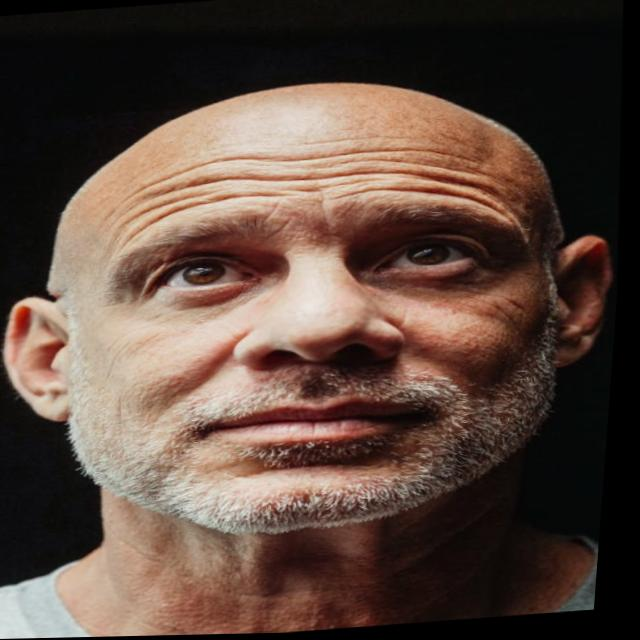wrinkle: (153, 173, 511, 202), (123, 195, 297, 249), (122, 157, 284, 205), (334, 189, 510, 218), (267, 149, 483, 165), (358, 161, 488, 179), (133, 194, 217, 220), (482, 294, 531, 316), (111, 342, 136, 382), (490, 304, 523, 332), (117, 203, 144, 224), (308, 138, 382, 145), (265, 200, 283, 227), (271, 218, 294, 239), (326, 181, 382, 189), (468, 169, 496, 179), (285, 190, 323, 194), (166, 317, 183, 324), (495, 182, 509, 189), (113, 343, 121, 351), (325, 207, 329, 222), (141, 326, 156, 330), (126, 398, 127, 424), (156, 324, 166, 326), (124, 336, 129, 340), (324, 202, 327, 207)
